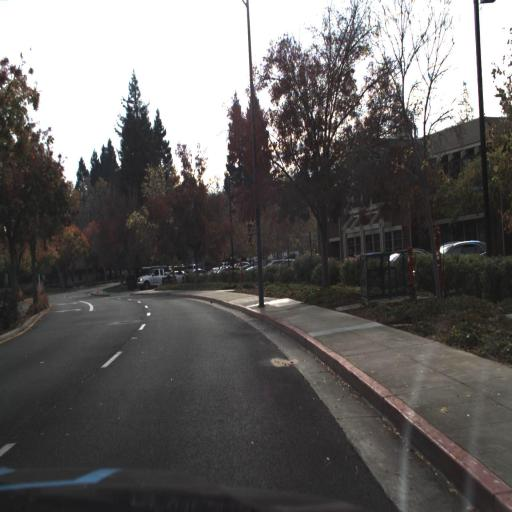car: (135, 263, 186, 288), (439, 238, 487, 256)
